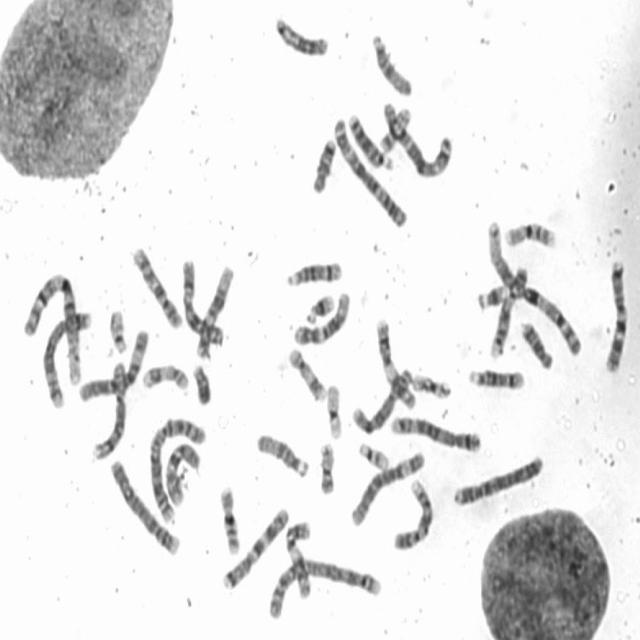A1: (483, 215, 582, 359), (21, 267, 85, 387)
A2: (264, 552, 384, 621), (146, 411, 206, 526)
A3: (331, 113, 409, 229), (379, 96, 455, 180)
B4: (105, 454, 182, 558), (450, 448, 545, 508)
B5: (40, 304, 94, 409), (387, 410, 483, 454)
C10: (129, 241, 185, 330), (161, 435, 203, 509)
C11: (373, 315, 417, 413), (283, 517, 314, 600)
C12: (192, 259, 236, 362), (290, 286, 353, 346)
C6: (348, 445, 426, 529), (74, 324, 151, 405)
C7: (219, 503, 291, 592), (601, 256, 630, 374)
C8: (350, 363, 415, 435), (90, 356, 130, 462)
C9: (487, 260, 530, 359), (388, 473, 436, 552)
D13: (345, 107, 396, 172), (272, 12, 332, 59)
D14: (463, 362, 528, 392), (284, 257, 344, 288)
D15: (368, 27, 415, 98), (252, 426, 312, 480)
E16: (216, 480, 243, 555), (502, 216, 558, 251)
E17: (285, 344, 328, 404), (138, 358, 191, 392)
E18: (516, 315, 554, 371), (310, 132, 338, 195)
F19: (409, 368, 453, 400), (323, 378, 344, 441)
F20: (376, 103, 413, 155), (315, 438, 338, 497)
G21: (473, 277, 510, 313), (302, 288, 337, 326)
G22: (106, 302, 130, 356), (355, 437, 391, 472)
X: (178, 252, 226, 348)
Y: (189, 358, 213, 406)
